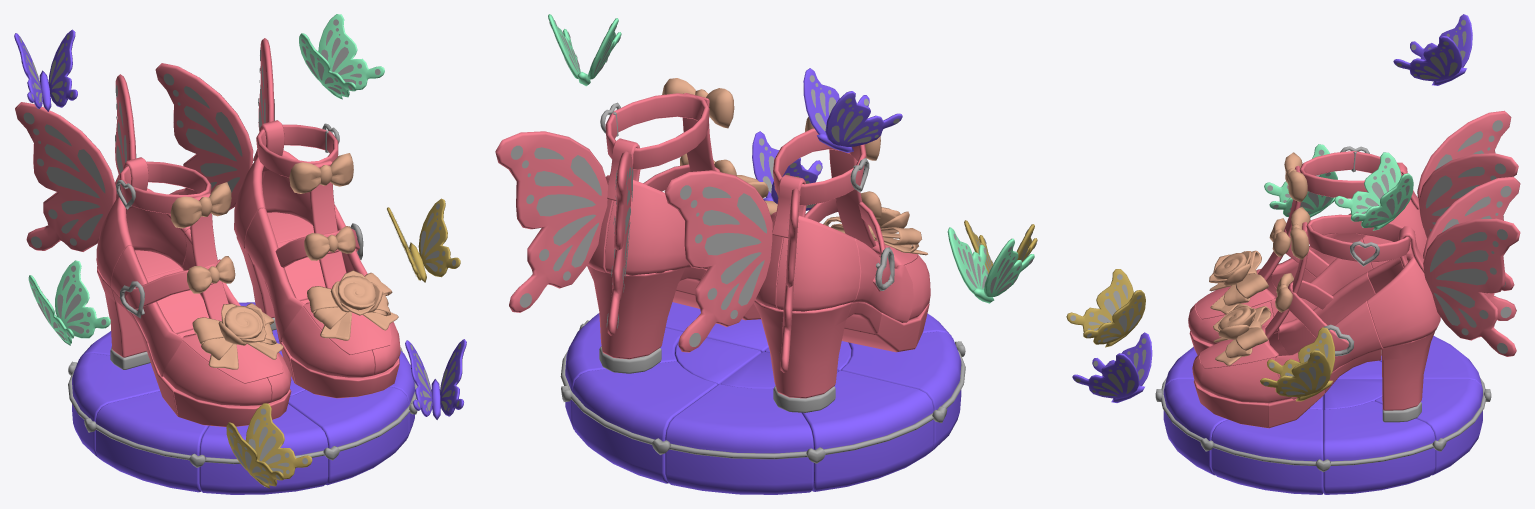
File: PlatformMaryJanes.fbx
The picture shows the model from 3 angles, left to right: view 1: azimuth 30°, elevation 25°; view 2: azimuth 150°, elevation 25°; view 3: azimuth 270°, elevation 25°; orthographic projection. The views are drawn at different scales.
Visible parts, largest first — view 1: M_PlatformMaryJanes, S_PlatformMaryJanes, S_PlatformMaryJanes_, M_PlatformMaryJanes_, DL_ButterflyShoe_112, DL_ButterflyShoe_51, D_ButterflyShoe_10, DL_PlatformMaryJanes_; view 2: M_PlatformMaryJanes, S_PlatformMaryJanes, S_PlatformMaryJanes_, DL_PlatformMaryJanes_, DL_PlatformMaryJanes_1, DL_ButterflyShoe_7, D_ButterflyShoe_12, DL_ButterflyShoe_81, D_ButterflyShoe_11, D_ButterflyShoe_13, DL_ButterflyShoe_27; view 3: M_PlatformMaryJanes, S_PlatformMaryJanes, S_PlatformMaryJanes_, DL_ButterflyShoe_28, D_ButterflyShoe_15, D_ButterflyShoe_14, DL_PlatformMaryJanes_1.
Boxes of the visible parts, box(x1,y1,x2,y2) form: M_PlatformMaryJanes: box(15, 38, 414, 494); S_PlatformMaryJanes: box(14, 14, 466, 488); S_PlatformMaryJanes_: box(256, 124, 346, 288); M_PlatformMaryJanes_: box(281, 306, 374, 377); DL_ButterflyShoe_112: box(46, 166, 99, 198); DL_ButterflyShoe_51: box(185, 128, 236, 161); D_ButterflyShoe_10: box(95, 424, 190, 460); DL_PlatformMaryJanes_: box(110, 346, 150, 369); M_PlatformMaryJanes: box(495, 131, 961, 494); S_PlatformMaryJanes: box(548, 14, 1037, 303); S_PlatformMaryJanes_: box(605, 93, 715, 171); DL_PlatformMaryJanes_: box(773, 386, 835, 412); DL_PlatformMaryJanes_1: box(599, 346, 661, 373); DL_ButterflyShoe_7: box(536, 194, 595, 216); D_ButterflyShoe_12: box(669, 443, 807, 459); DL_ButterflyShoe_81: box(704, 232, 761, 255); D_ButterflyShoe_11: box(823, 413, 933, 454); D_ButterflyShoe_13: box(570, 391, 654, 444); DL_ButterflyShoe_27: box(570, 155, 601, 195); M_PlatformMaryJanes: box(1163, 110, 1520, 494); S_PlatformMaryJanes: box(1066, 14, 1472, 402); S_PlatformMaryJanes_: box(1265, 214, 1410, 339); DL_ButterflyShoe_28: box(1436, 268, 1488, 285); D_ButterflyShoe_15: box(1213, 443, 1316, 465); D_ButterflyShoe_14: box(1330, 443, 1433, 465); DL_PlatformMaryJanes_1: box(1382, 402, 1421, 422).
Size of the model in its own units: 630 by 548 by 647.
